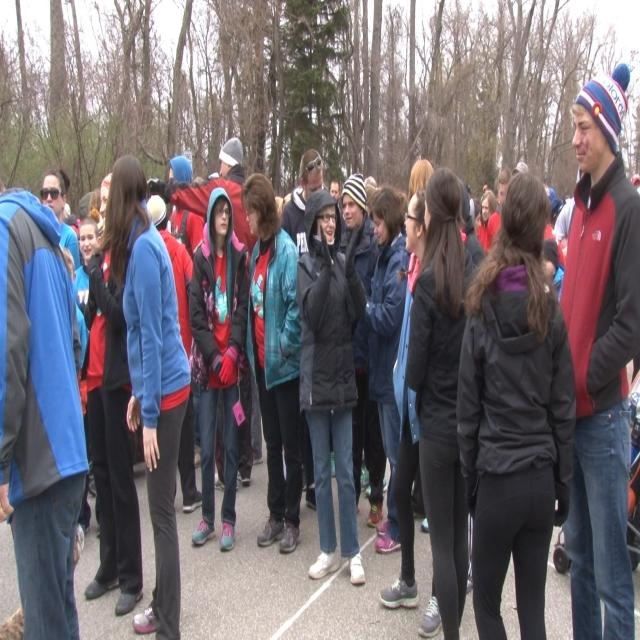body: (457, 170, 575, 639), (560, 61, 639, 640), (101, 150, 192, 639), (0, 180, 90, 640), (145, 137, 258, 490), (404, 169, 480, 639), (378, 188, 444, 636), (294, 187, 367, 586), (82, 167, 146, 621), (240, 172, 304, 554), (188, 186, 254, 551), (146, 192, 204, 516), (362, 185, 412, 555), (340, 172, 387, 527), (396, 157, 436, 535), (282, 148, 341, 260), (39, 167, 81, 272), (168, 156, 206, 262), (60, 245, 88, 382), (454, 176, 489, 272), (249, 310, 267, 466), (553, 165, 586, 249), (75, 216, 102, 317), (484, 167, 514, 257), (61, 170, 101, 230), (541, 238, 564, 302), (477, 189, 497, 251), (328, 179, 347, 239), (544, 184, 562, 241), (188, 165, 222, 185), (274, 185, 298, 212), (468, 197, 482, 236), (512, 157, 530, 175), (629, 168, 640, 197), (365, 172, 383, 188), (397, 193, 409, 212), (480, 177, 491, 193)
